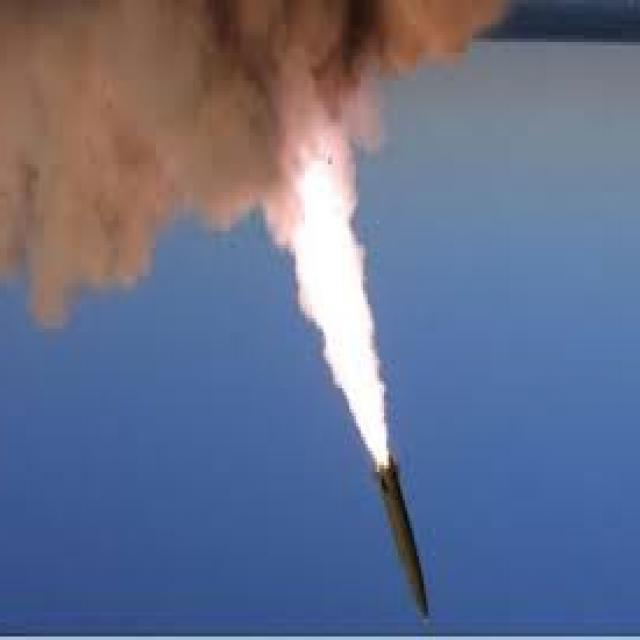missile: (369, 459, 440, 624)
